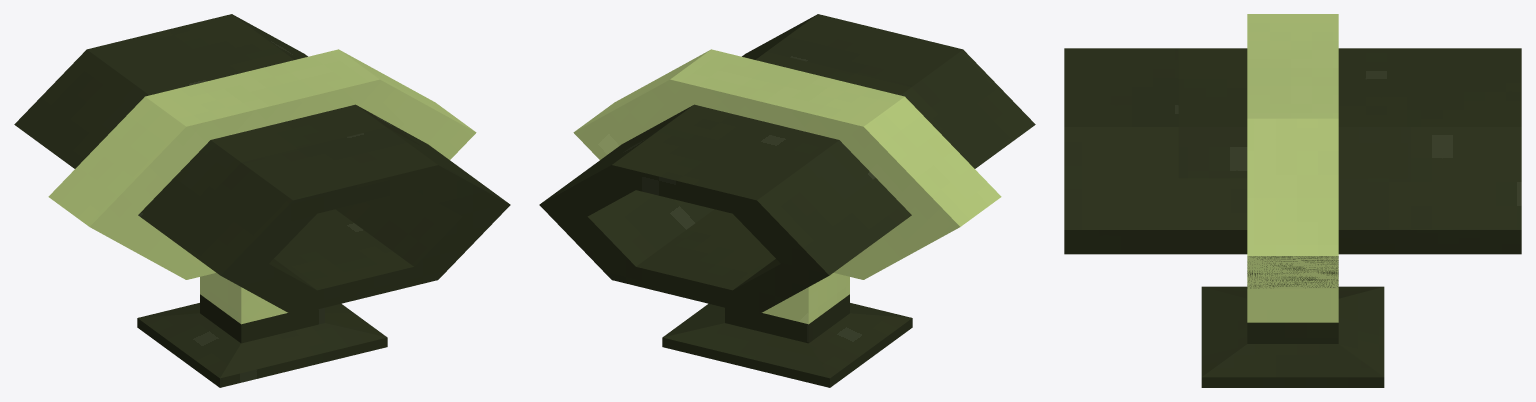
Rendered from item_artifactSieve.glb.
3 renders of one model, left to right at view 1: azimuth 30°, elevation 25°; view 2: azimuth 150°, elevation 25°; view 3: azimuth 270°, elevation 25°, orthographic. The views are drawn at different scales.
Visible parts, largest first — view 1: Donor_space-pipe_ringHigh_0; view 2: Donor_space-pipe_ringHigh_0; view 3: Donor_space-pipe_ringHigh_0.
Part boxes in pixels (x1,y1,x2,y2): Donor_space-pipe_ringHigh_0: [14, 14, 510, 387]; Donor_space-pipe_ringHigh_0: [539, 14, 1035, 387]; Donor_space-pipe_ringHigh_0: [1064, 14, 1521, 387].
Bounding box in the file's own units: 0.26 × 0.16 × 0.24.
Materials: 2 (2 with a texture image).
